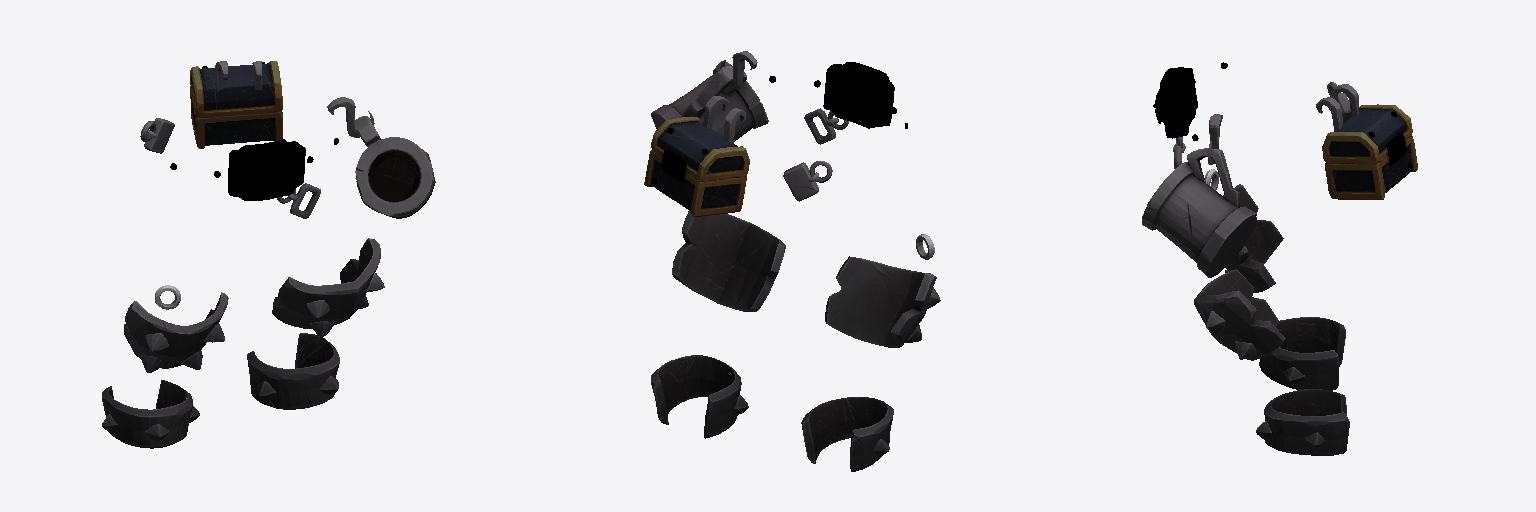
The picture shows the model from 3 angles: view 1: azimuth 30°, elevation 25°; view 2: azimuth 150°, elevation 25°; view 3: azimuth 270°, elevation 25°; orthographic projection.
Visible parts, largest first — view 1: LegsGear_Metals; view 2: LegsGear_Metals; view 3: LegsGear_Metals.
Part boxes in pixels (x1,y1,x2,y2): LegsGear_Metals: (102,61,435,448); LegsGear_Metals: (644,51,940,471); LegsGear_Metals: (1142,62,1417,455).
Bounding box in the file's own units: 3.35 × 3.74 × 2.76.
1 materials, 1 textured.